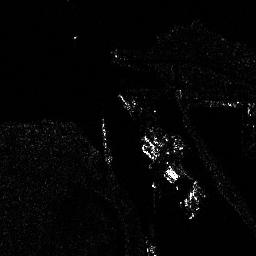ship: (141, 143, 159, 163), (164, 166, 180, 184)
